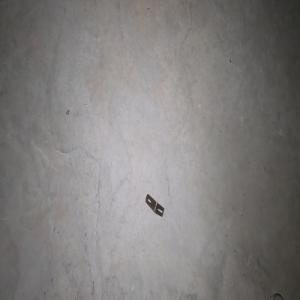MetalPart: (145, 193, 164, 217)
